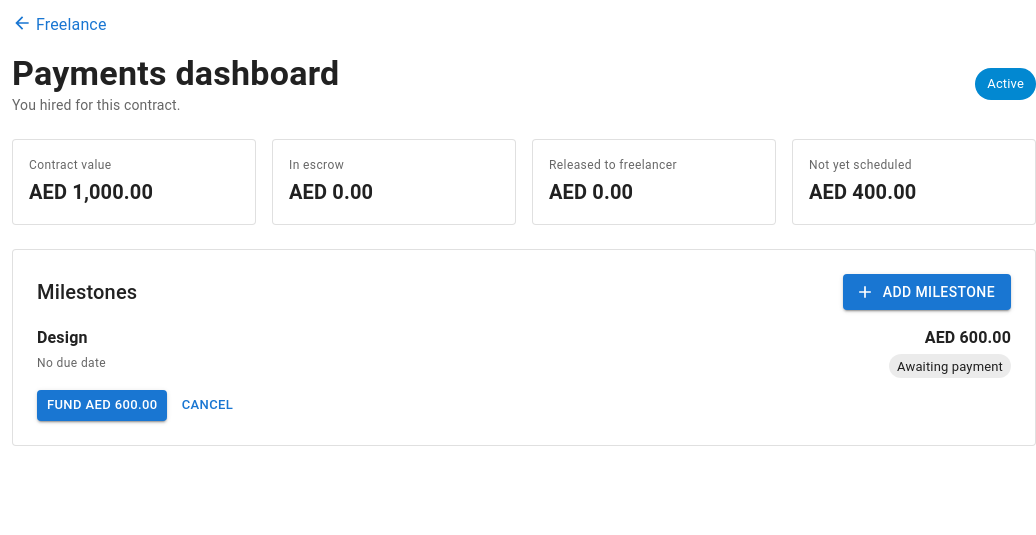
Test case: contract screen › says plainly when payments are not available
Step 1. Click the button "Fund AED 600.00" → (102, 406), box [37,390,168,421]
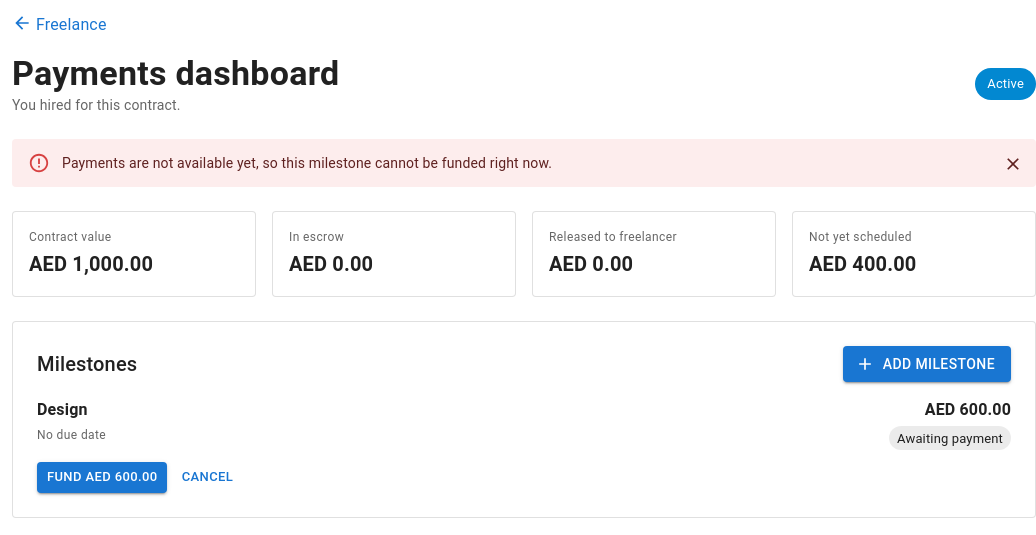
Expected: the text "Payments are not available yet" is shown, [62,155,552,171]
